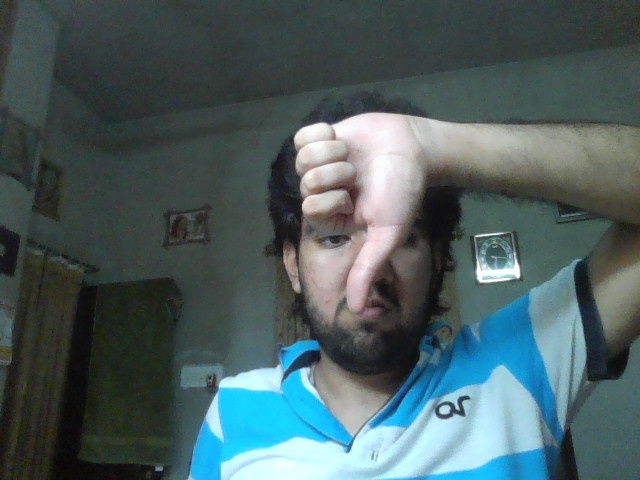NotOk: (295, 113, 420, 313)
